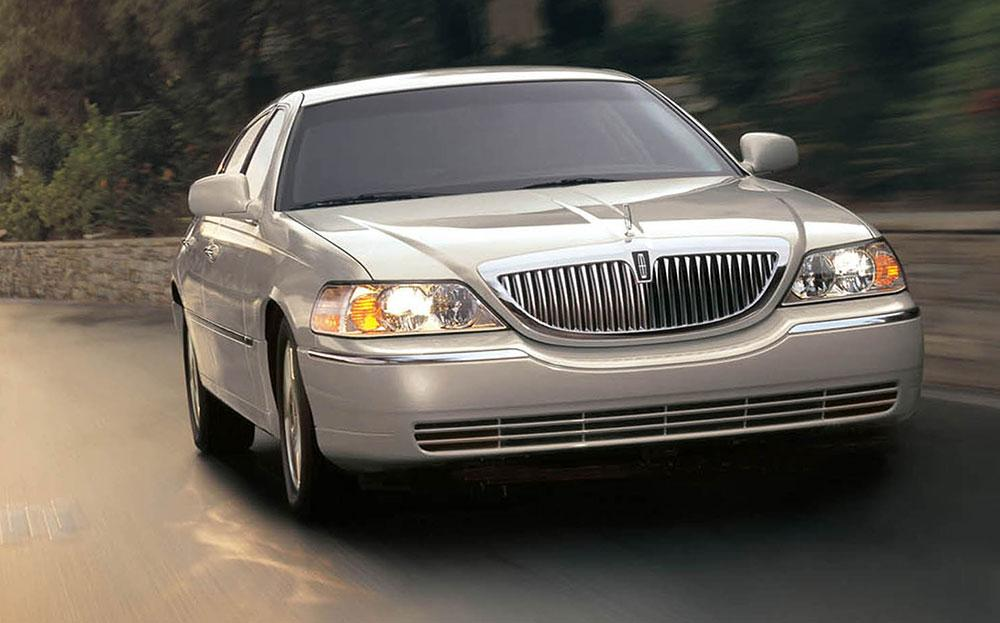lincoln: (619, 198, 634, 243)
